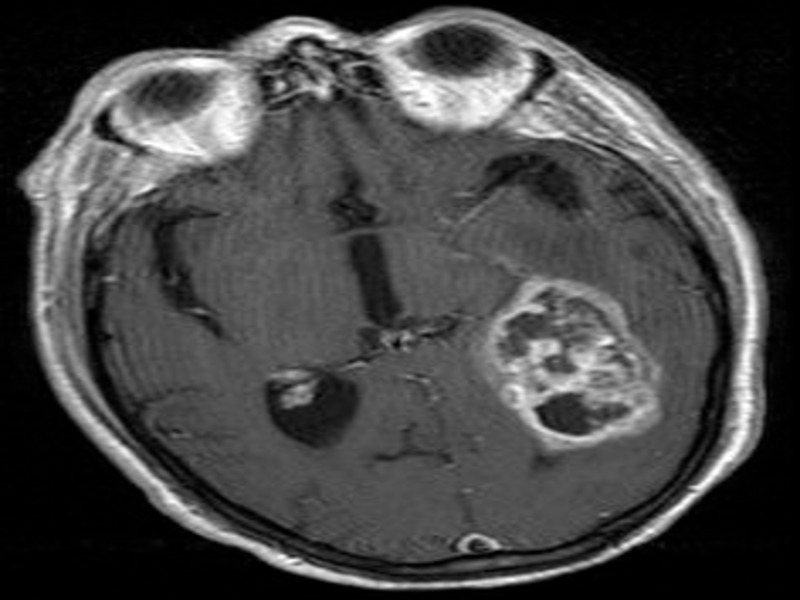tumor: (482, 268, 673, 460)
